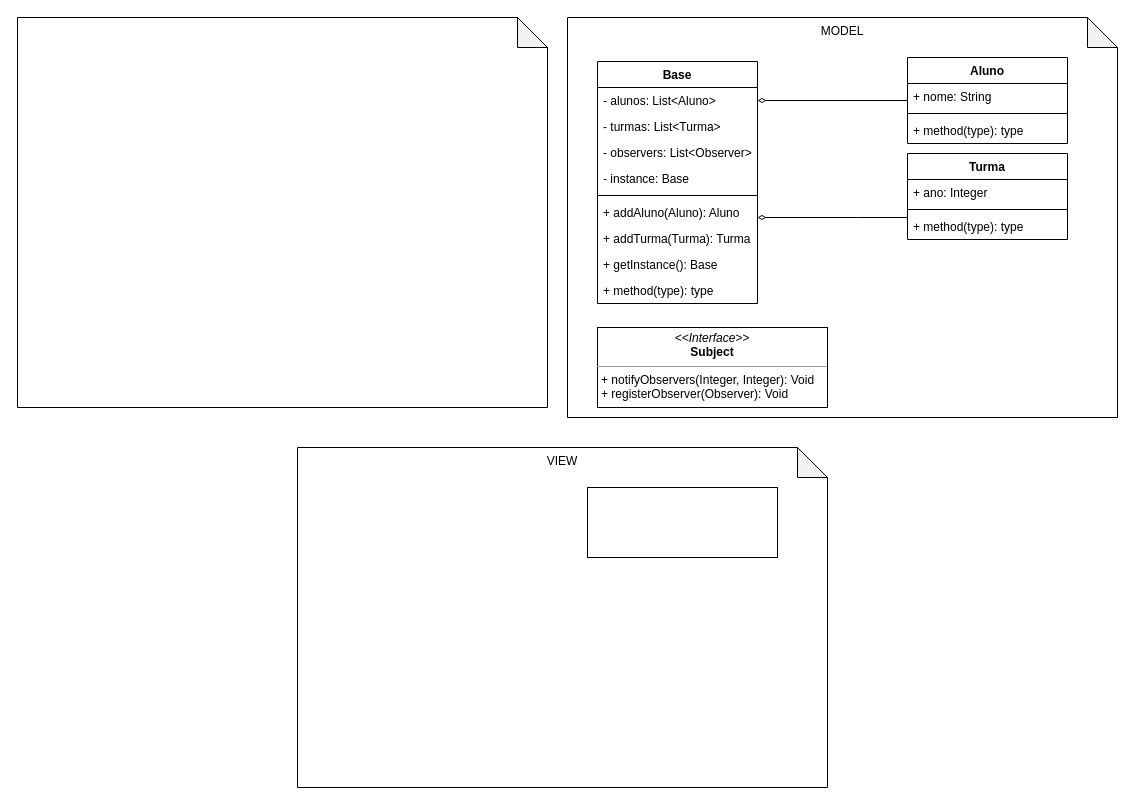
Some shapes in this 1135 by 805 pixel diagram are drawn without their labels. The shapes that lost their labels are listed below. From the top down, each one's centre as x and y in pixels, then its label:
At [282,212]: "CONTROLLER".
At [682,522]: "<<Interface>> Observer + update(Integer, Integer): Void".
